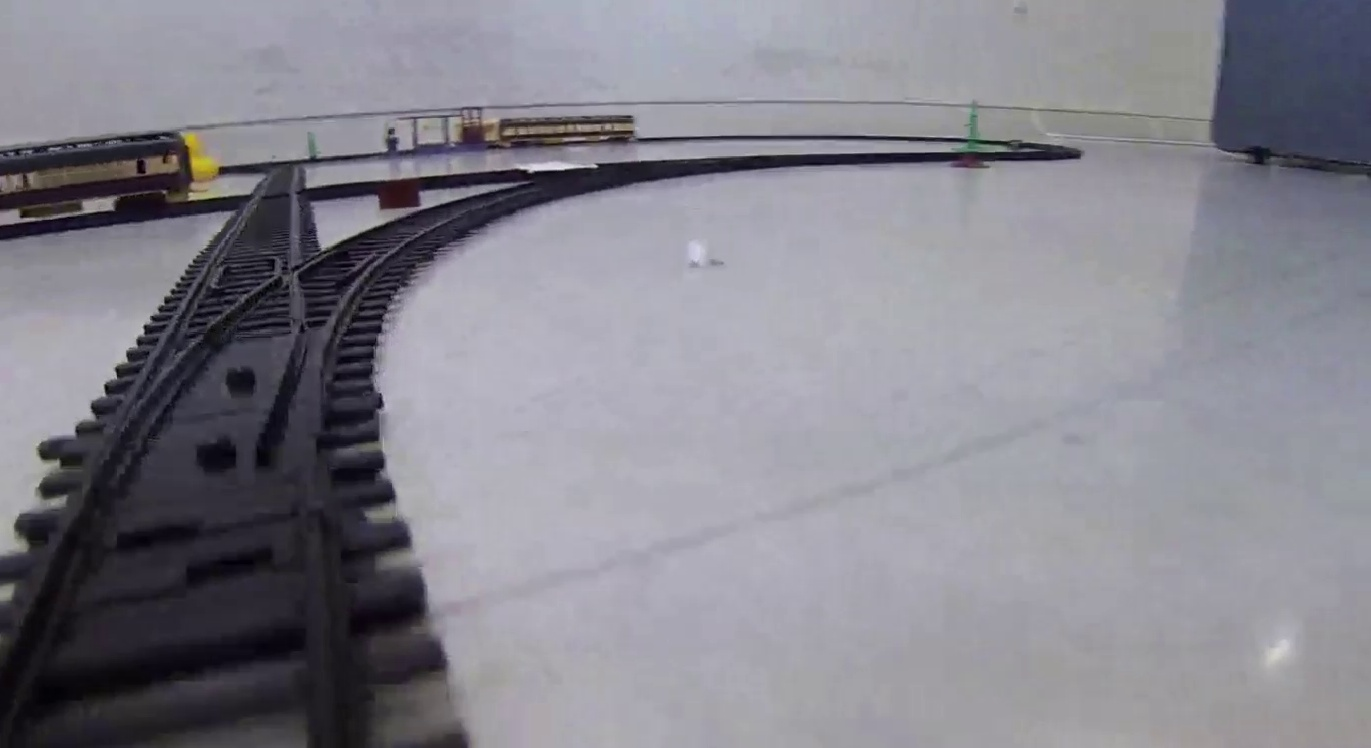box: (380, 184, 420, 209)
